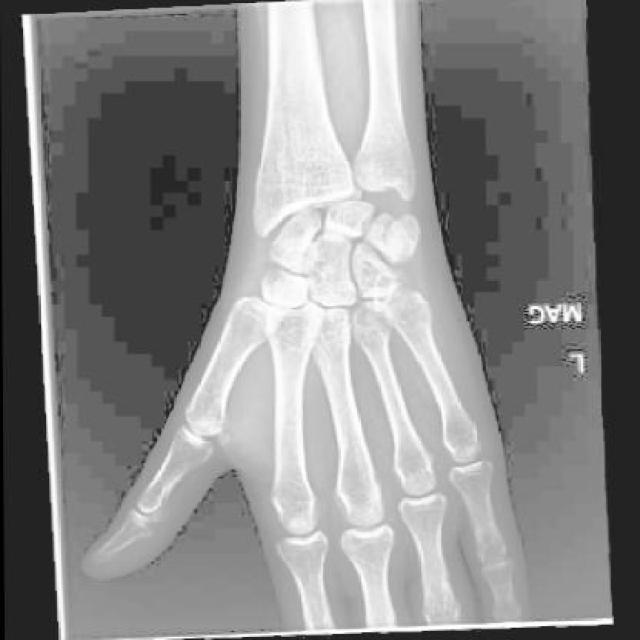Fracture: (266, 240, 316, 282)
